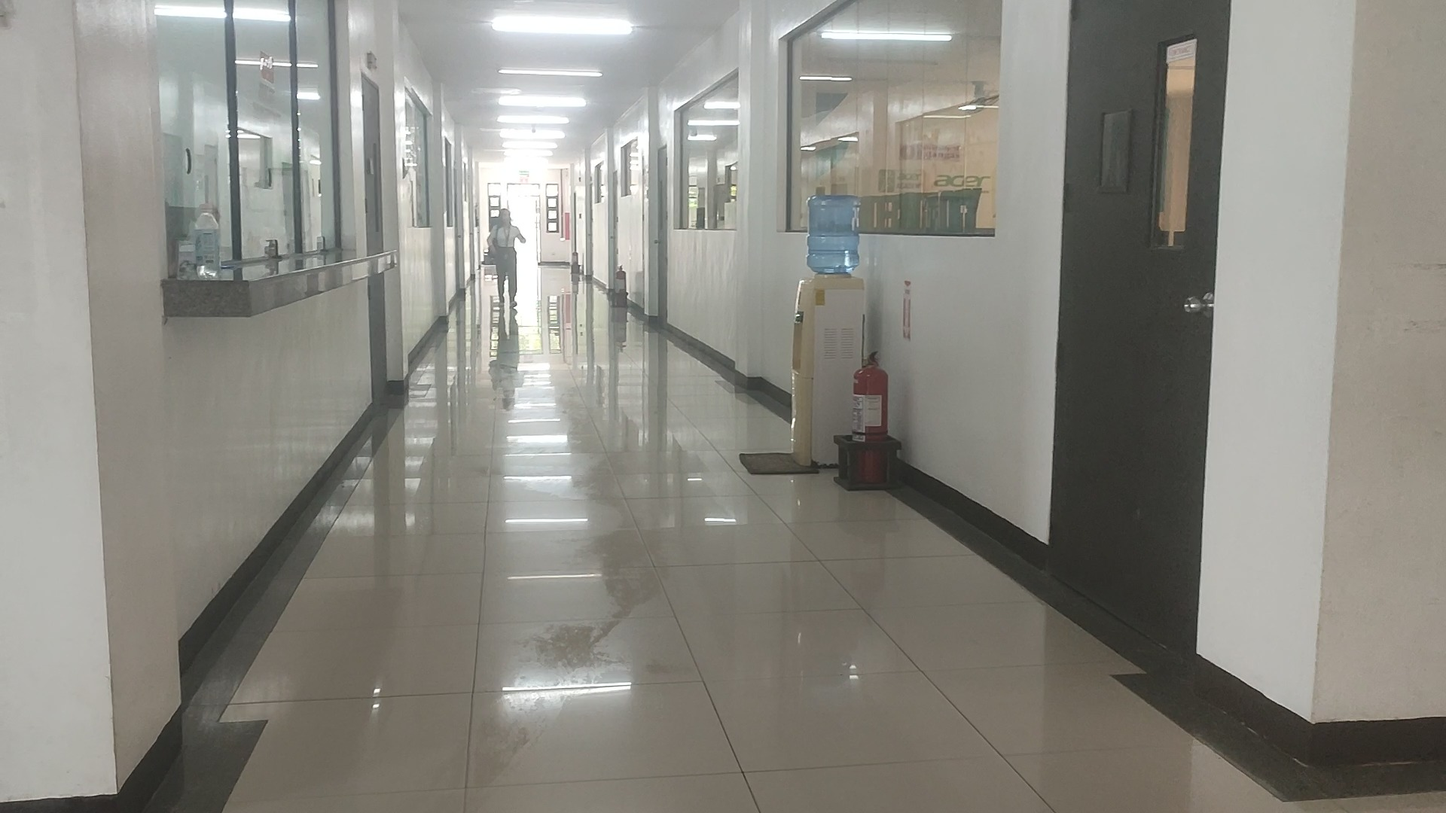door: (1048, 0, 1232, 672)
